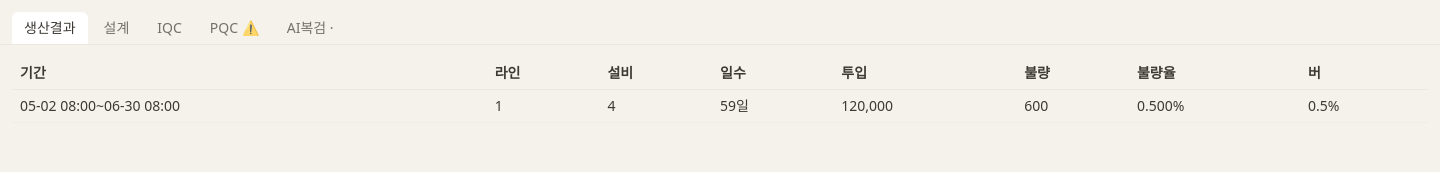
it: StageTabs › shows a missing-document message on a stage with no data
The width and height of the screenshot is (1440, 172).
Click the tab "AI복검 ·". click: (310, 28)
box: left=275, top=12, right=346, bottom=44
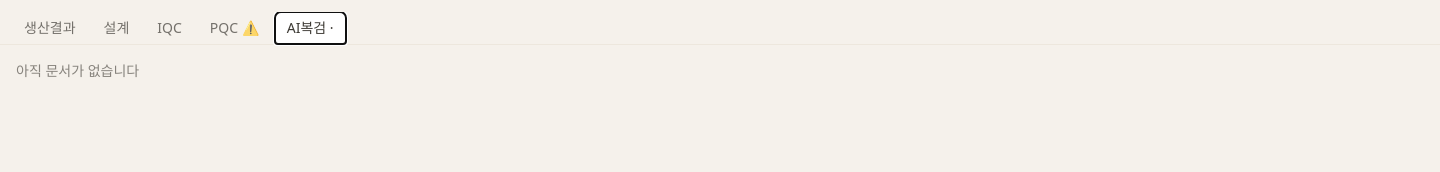
expect the text "아직 문서가 없습니다" is shown: met, box left=16, top=61, right=139, bottom=80
